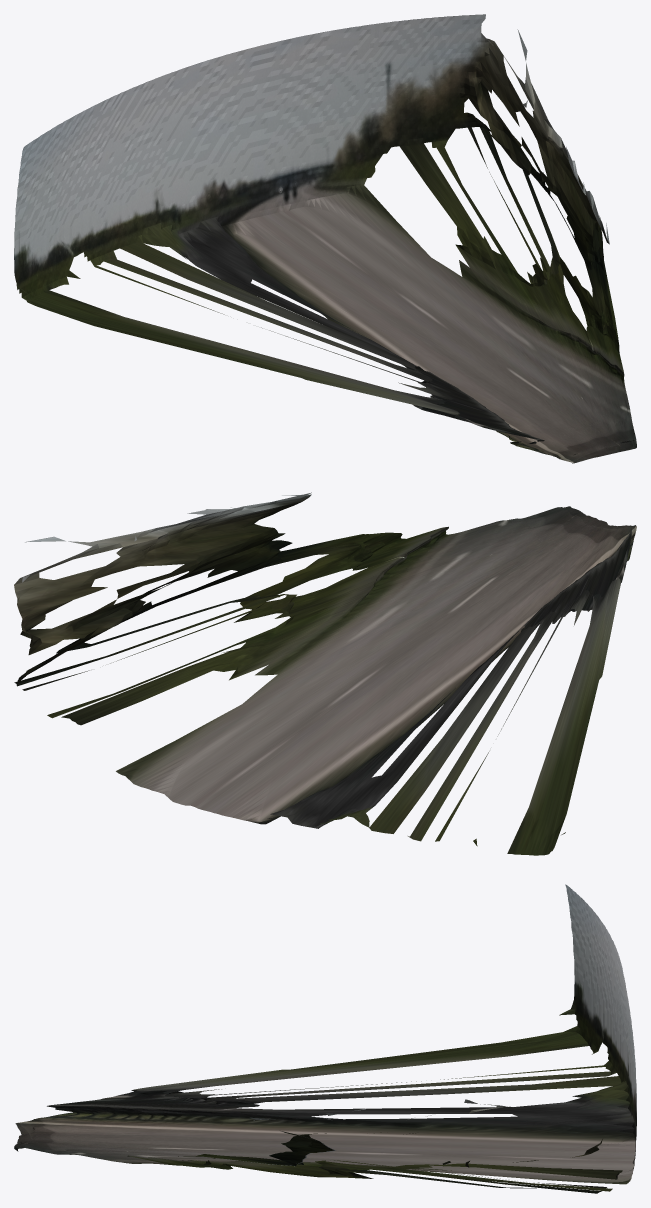
3 views of the same model, one above another, from view 1: azimuth 30°, elevation 25°; view 2: azimuth 150°, elevation 25°; view 3: azimuth 270°, elevation 25° (orthographic). The views are drawn at different scales.
Visible parts, largest first — view 1: defaultobject; view 2: defaultobject; view 3: defaultobject.
Part boxes in pixels (x1,y1,x2,y2): defaultobject: (14, 14, 636, 463); defaultobject: (14, 492, 636, 855); defaultobject: (14, 884, 636, 1193).
Bounding box in the file's own units: 36.73 × 12.79 × 44.71.
1 material, 1 textured.
